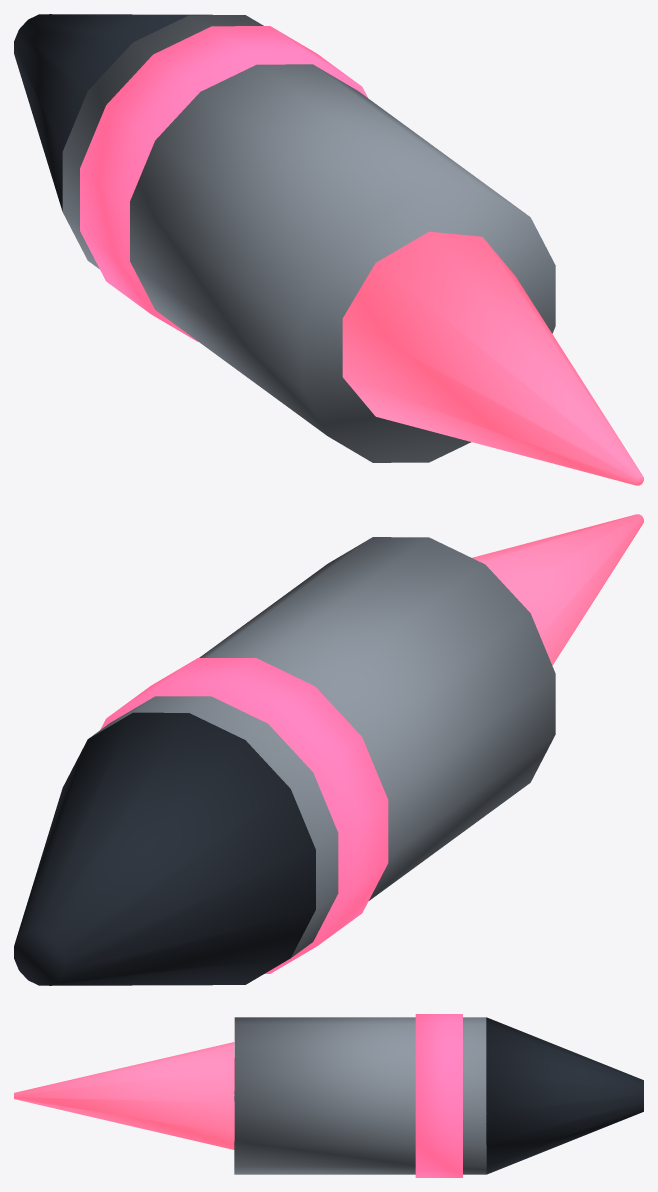
Rendered from EnemyShell.fbx.
The picture shows the model from 3 angles, top to bottom: view 1: azimuth 30°, elevation 25°; view 2: azimuth 150°, elevation 25°; view 3: azimuth 270°, elevation 25°; orthographic projection. The views are drawn at different scales.
Parts seen in each view (by area): view 1: Steel_Case0, Glow_Tracer0, Eye_Band0, Metal_Nose0; view 2: Steel_Case0, Metal_Nose0, Eye_Band0, Glow_Tracer0; view 3: Steel_Case0, Metal_Nose0, Glow_Tracer0, Eye_Band0.
Part boxes in pixels (x1,y1,x2,y2): Steel_Case0: [62, 15, 555, 462]; Glow_Tracer0: [342, 231, 643, 485]; Eye_Band0: [80, 26, 367, 341]; Metal_Nose0: [14, 14, 212, 211]; Steel_Case0: [89, 537, 555, 957]; Metal_Nose0: [14, 712, 315, 985]; Eye_Band0: [100, 658, 388, 973]; Glow_Tracer0: [472, 514, 643, 665]; Steel_Case0: [234, 1017, 486, 1174]; Metal_Nose0: [486, 1017, 643, 1174]; Glow_Tracer0: [14, 1042, 234, 1149]; Eye_Band0: [415, 1014, 462, 1177].
Size of the model in its own units: 0.1014 by 0.4 by 0.104.
